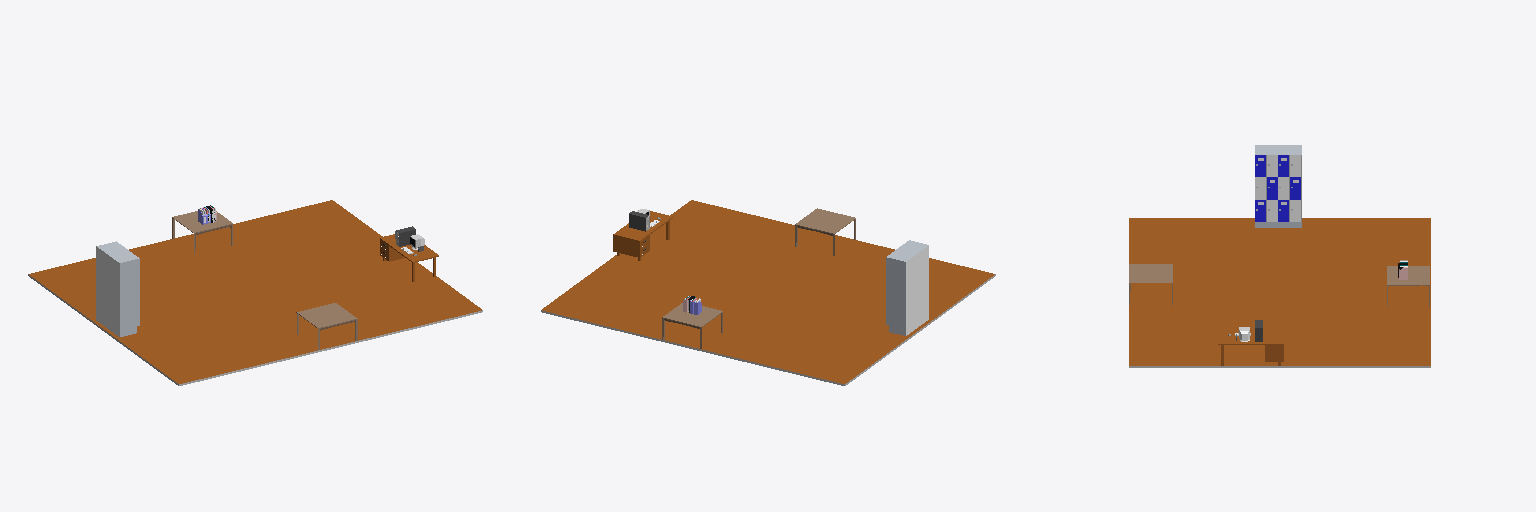
The model's file is stage.obj.
3 views of the same model, side by side, from view 1: azimuth 30°, elevation 25°; view 2: azimuth 150°, elevation 25°; view 3: azimuth 270°, elevation 25° (orthographic).
Visible parts, largest first — view 1: Mesh103 Model, Mesh1 Lockers1 Model, Mesh62 ske4B1 Computer1 Model, Mesh32 Component_29_2 G_421_708_2 Model; view 2: Mesh103 Model, Mesh1 Lockers1 Model, Mesh62 ske4B1 Computer1 Model, Mesh32 Component_29_2 G_421_708_2 Model; view 3: Mesh103 Model, Mesh1 Lockers1 Model, Mesh62 ske4B1 Computer1 Model, Mesh32 Component_29_2 G_421_708_2 Model, Mesh2 Component_29_1 G_421_708_1 Model.
Boxes of the visible parts, <box> form: Mesh103 Model: <box>28,200,482,385</box>; Mesh1 Lockers1 Model: <box>96,241,139,336</box>; Mesh62 ske4B1 Computer1 Model: <box>380,226,438,281</box>; Mesh32 Component_29_2 G_421_708_2 Model: <box>301,306,357,328</box>; Mesh103 Model: <box>541,200,995,385</box>; Mesh1 Lockers1 Model: <box>886,240,928,335</box>; Mesh62 ske4B1 Computer1 Model: <box>613,209,672,260</box>; Mesh32 Component_29_2 G_421_708_2 Model: <box>800,208,855,230</box>; Mesh103 Model: <box>1129,218,1430,367</box>; Mesh1 Lockers1 Model: <box>1255,145,1301,227</box>; Mesh62 ske4B1 Computer1 Model: <box>1218,320,1283,365</box>; Mesh32 Component_29_2 G_421_708_2 Model: <box>1129,264,1163,282</box>; Mesh2 Component_29_1 G_421_708_1 Model: <box>1387,266,1421,285</box>.
Bounding box in the file's own units: 304 × 72.86 × 261.